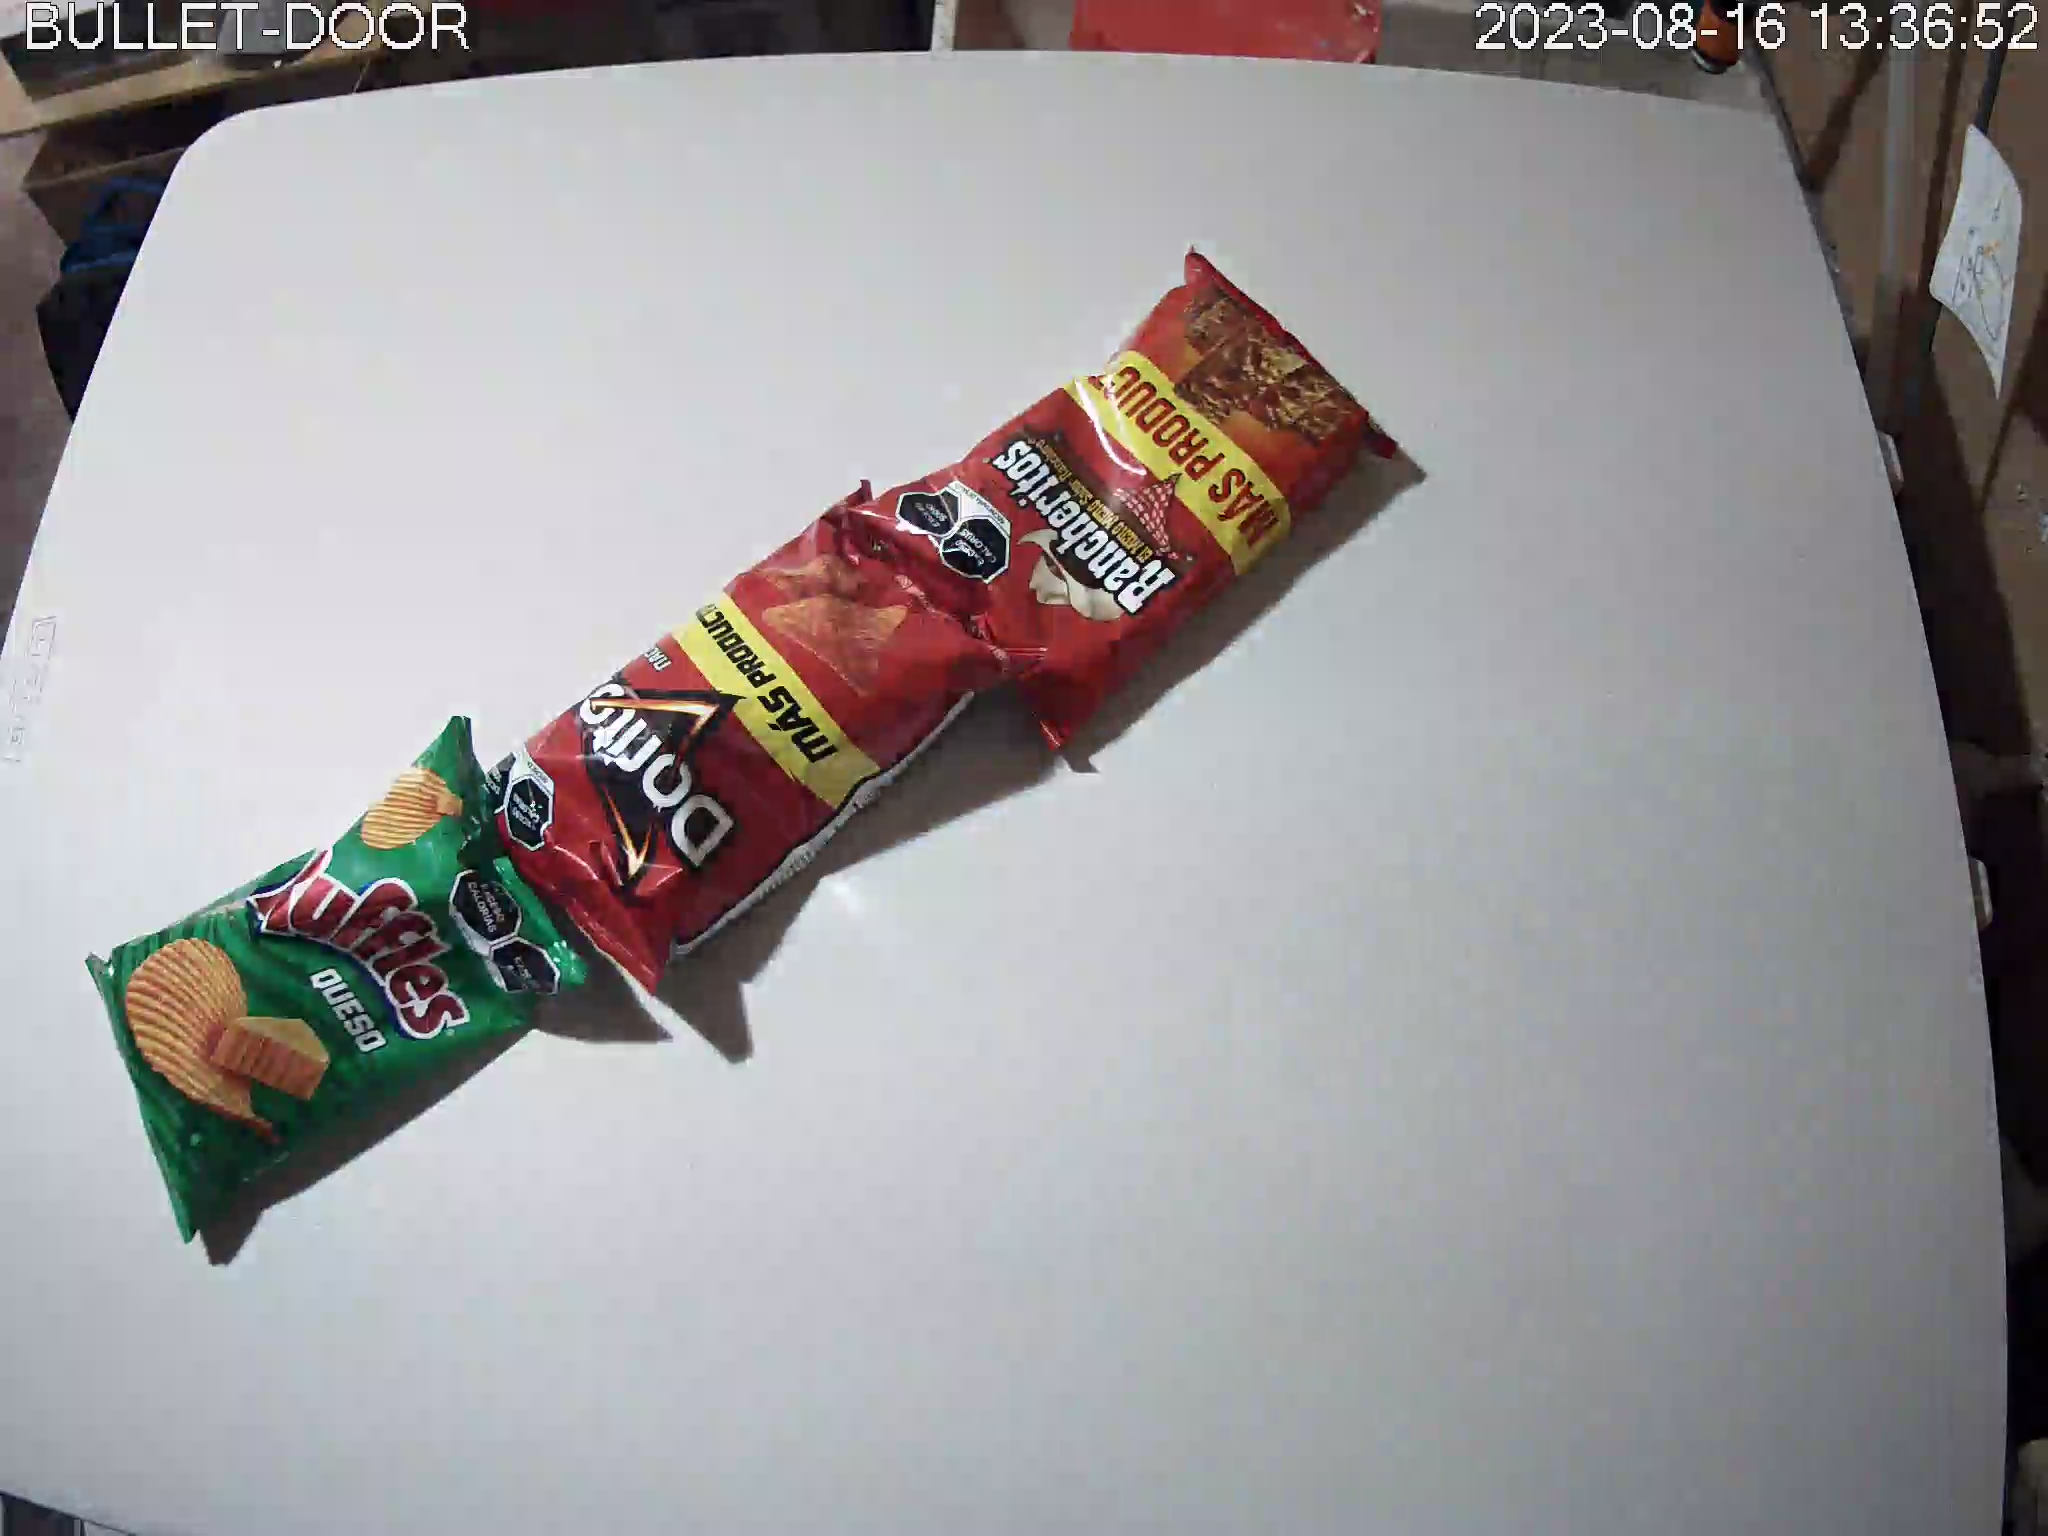DoritosN_61_F: (472, 478, 1050, 999)
Rancheritos_58_F: (847, 240, 1401, 750)
RufflesQ_48_F: (85, 716, 614, 1249)
